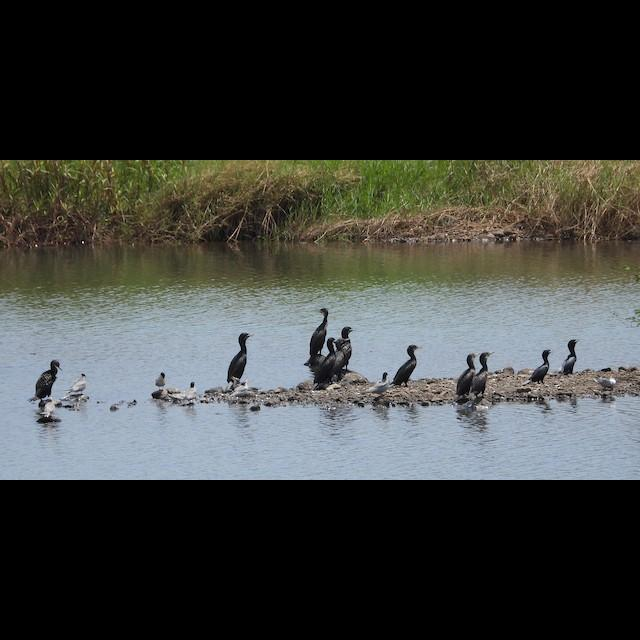cormorant: (216, 331, 256, 391), (298, 304, 329, 370), (29, 358, 62, 409), (390, 344, 428, 388), (520, 346, 556, 389), (558, 336, 582, 380)
